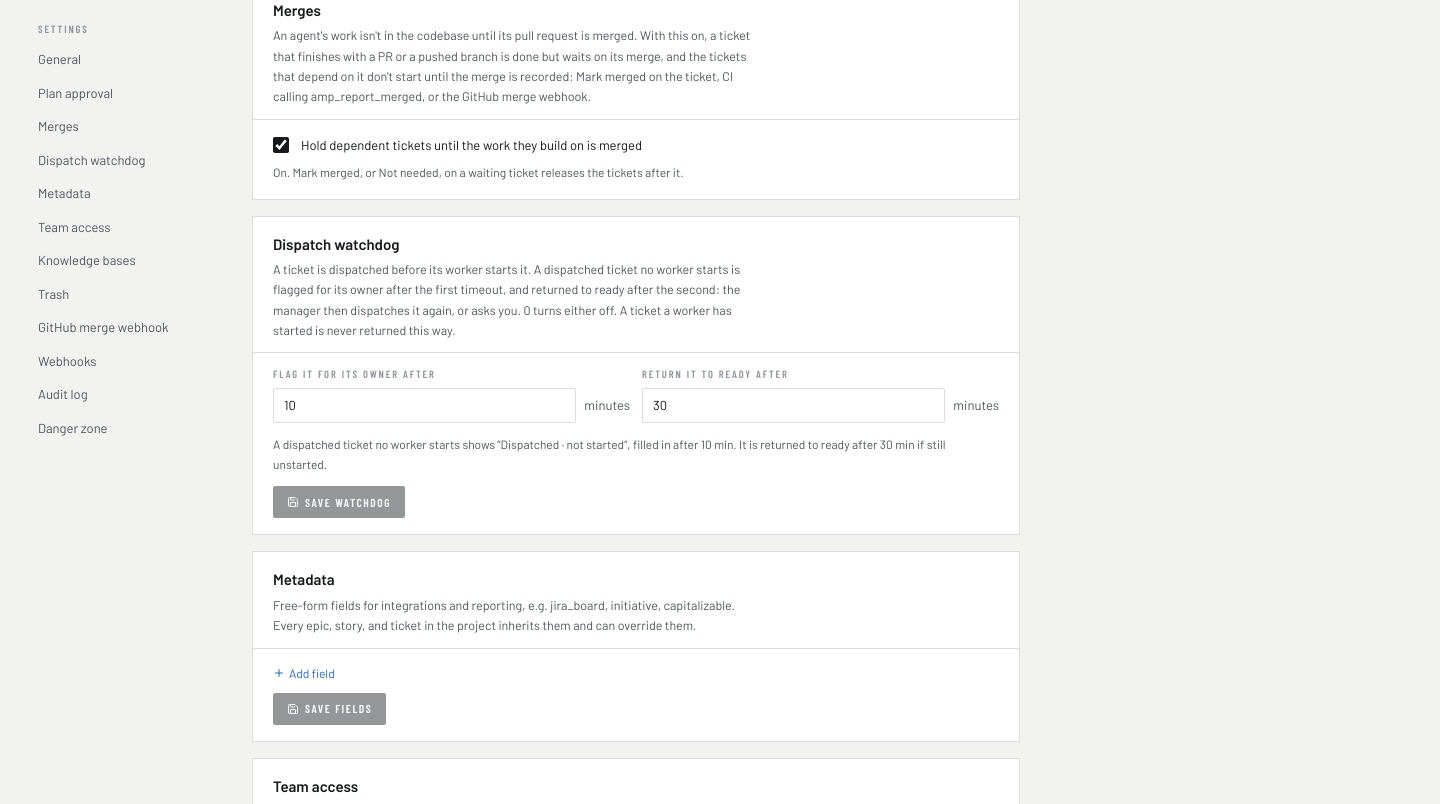
Test: ProjectSettings dispatch watchdog › saves both minutes together, and only when they changed
(page scrolled)
expect the button "Save watchdog" is disabled: met, box [273,486,405,518]
Replace the text in the field labelled "Flag it for its owner after" with "5" at {"x": 425, "y": 406}, box [273,388,576,423]
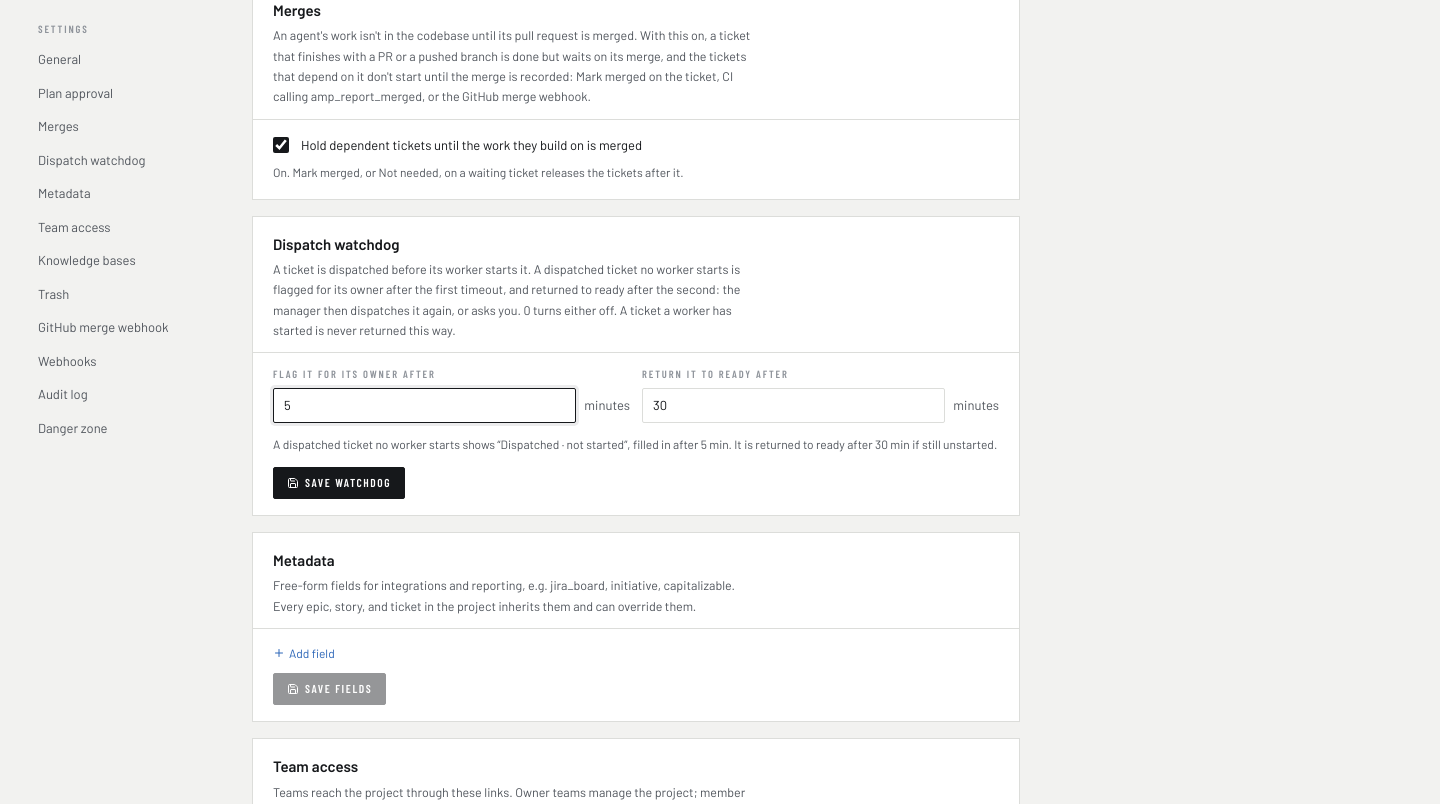
Click the button "Save watchdog" at {"x": 339, "y": 483}, box [273,467,405,499]
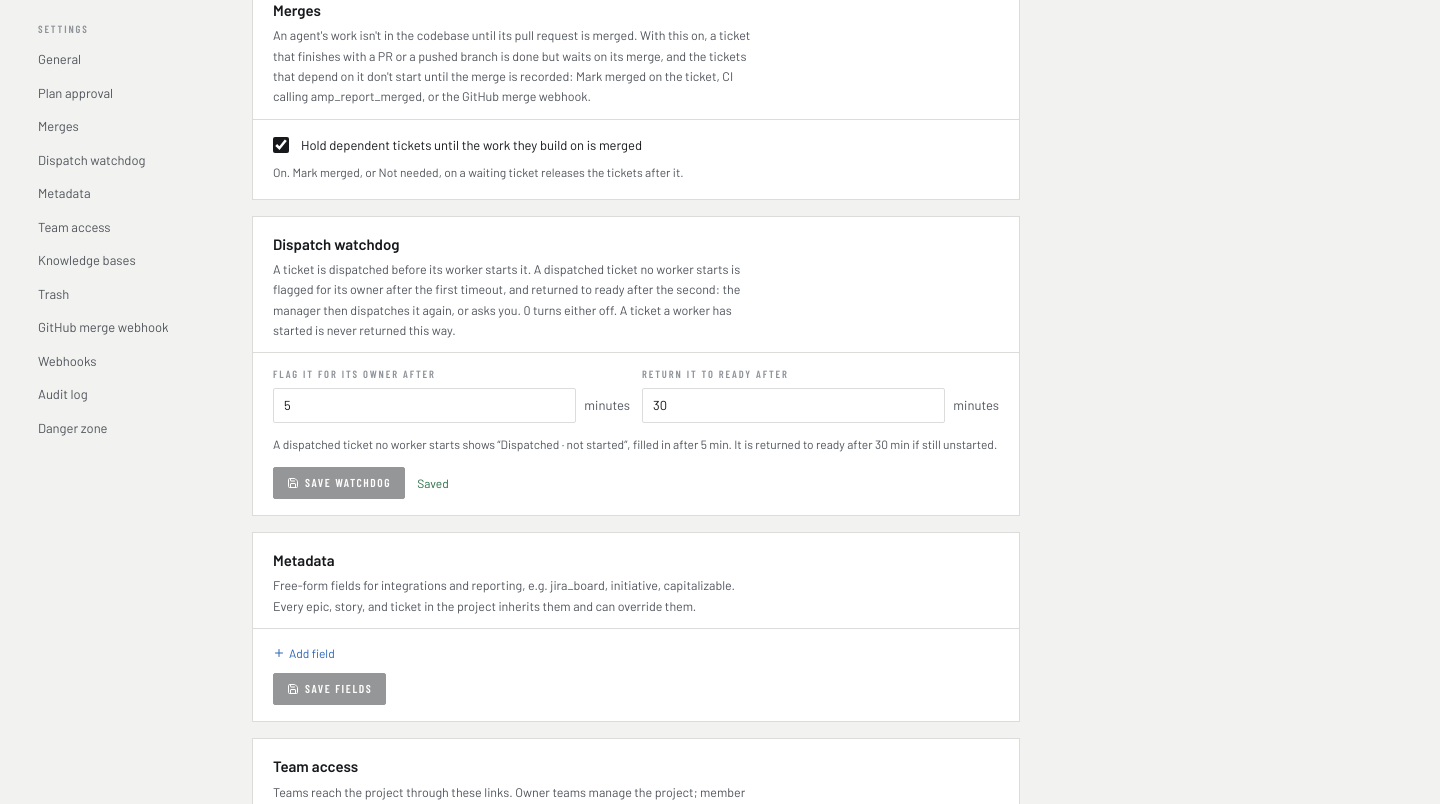
expect the text "Saved" is shown: met, box [417,475,449,491]
